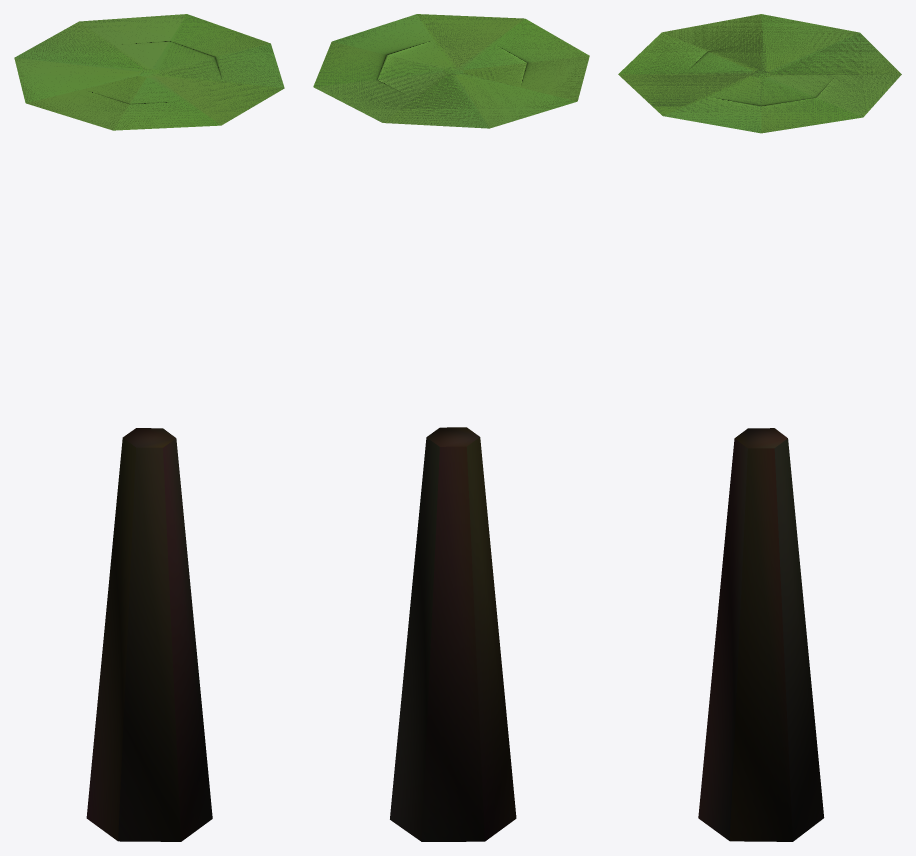
Rendered from tree_bk_foret_broceliande_0005.glb.
3 renders of one model, left to right at view 1: azimuth 30°, elevation 25°; view 2: azimuth 150°, elevation 25°; view 3: azimuth 270°, elevation 25°, orthographic.
Visible parts, largest first — view 1: tree_bk_005; view 2: tree_bk_005; view 3: tree_bk_005.
Boxes of the visible parts, <box> form: tree_bk_005: <box>14,14,284,841</box>; tree_bk_005: <box>313,14,589,841</box>; tree_bk_005: <box>618,14,901,841</box>.
Bounding box in the file's own units: 1.72 × 5 × 1.73.
